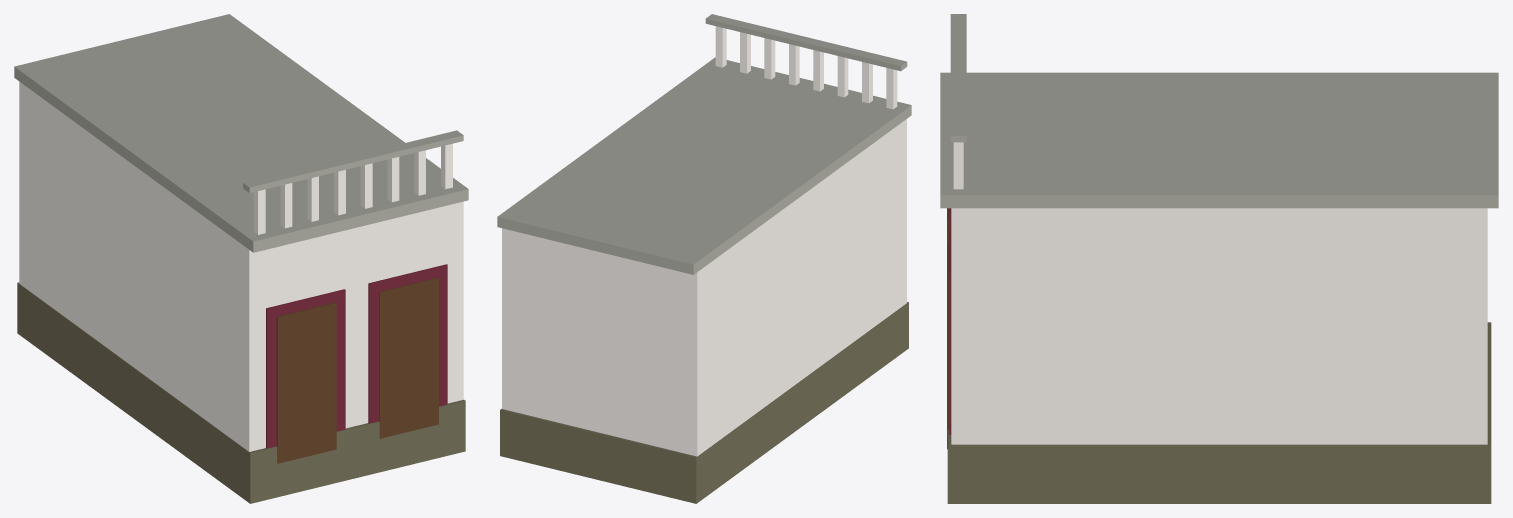
Rendered from SM_KitRemate_v3_LOD0.fbx.
3 views of the same model, side by side, from view 1: azimuth 30°, elevation 25°; view 2: azimuth 150°, elevation 25°; view 3: azimuth 270°, elevation 25° (orthographic). The views are drawn at different scales.
Parts seen in each view (by area): view 1: SM_bloques.kit_remate_v3_LOD0; view 2: SM_bloques.kit_remate_v3_LOD0; view 3: SM_bloques.kit_remate_v3_LOD0.
Boxes of the visible parts, x1,y1,x2,y2 form: SM_bloques.kit_remate_v3_LOD0: (14, 14, 468, 503); SM_bloques.kit_remate_v3_LOD0: (497, 14, 911, 503); SM_bloques.kit_remate_v3_LOD0: (940, 14, 1498, 503).
Bounding box in the file's own units: 4 × 5.6 × 7.7.
